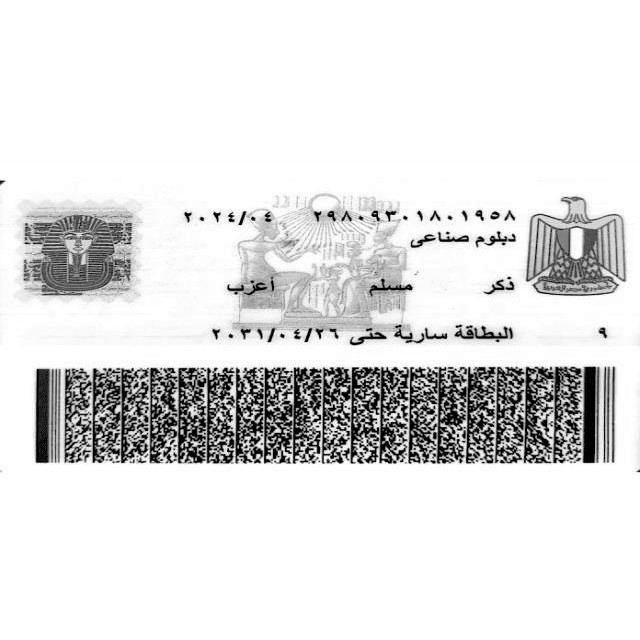id_card: (2, 182, 634, 478)
